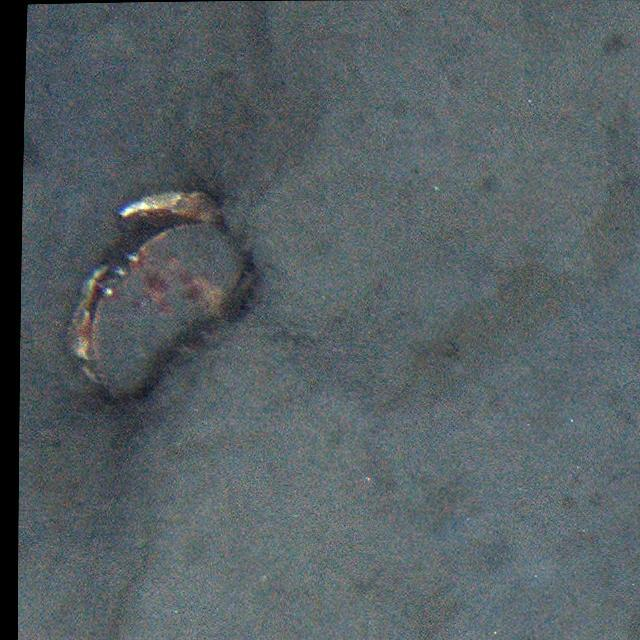crab: (54, 194, 234, 396)
